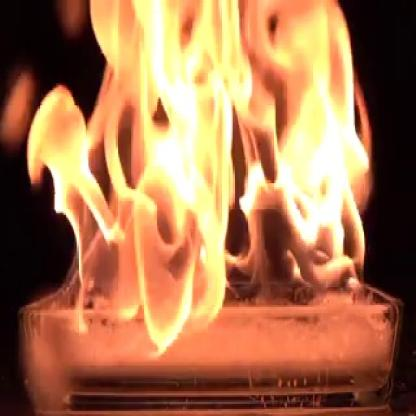fire: (26, 0, 384, 362)
